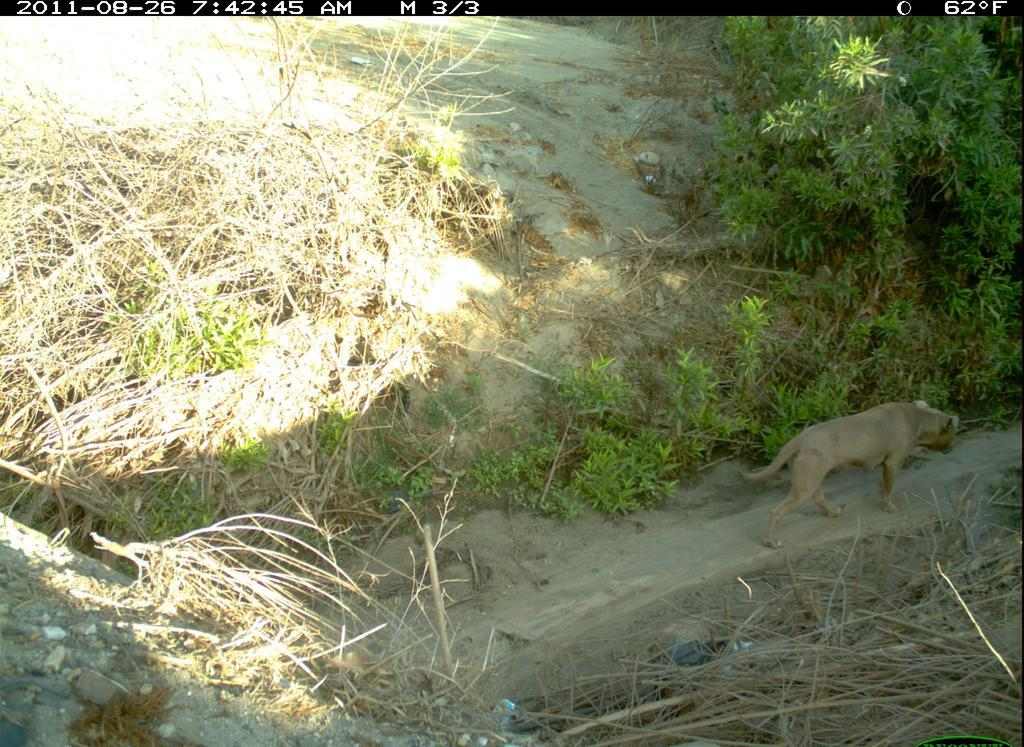dog: (730, 387, 972, 557)
